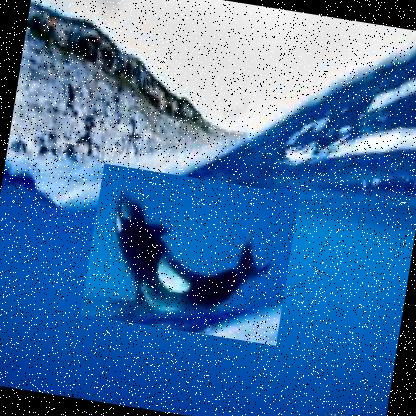killer_whale: (78, 163, 300, 346)
